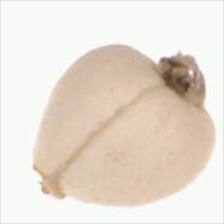L3: (30, 159, 71, 199)
L4: (31, 43, 217, 207)
